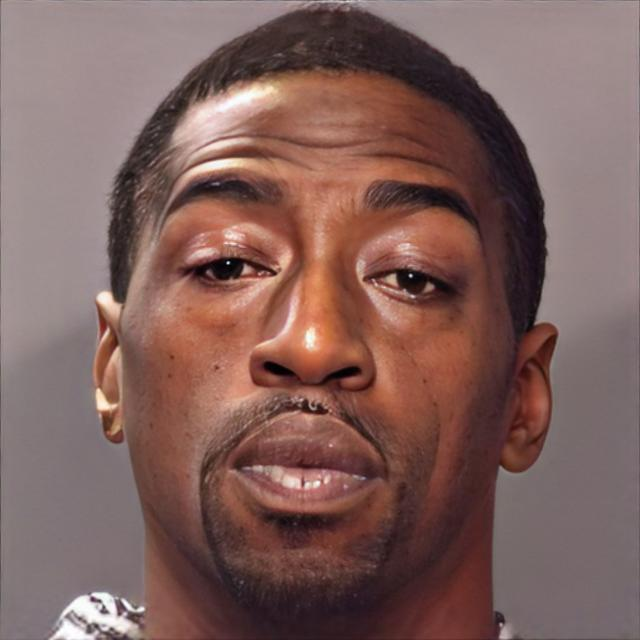surprise: (115, 68, 517, 626)
